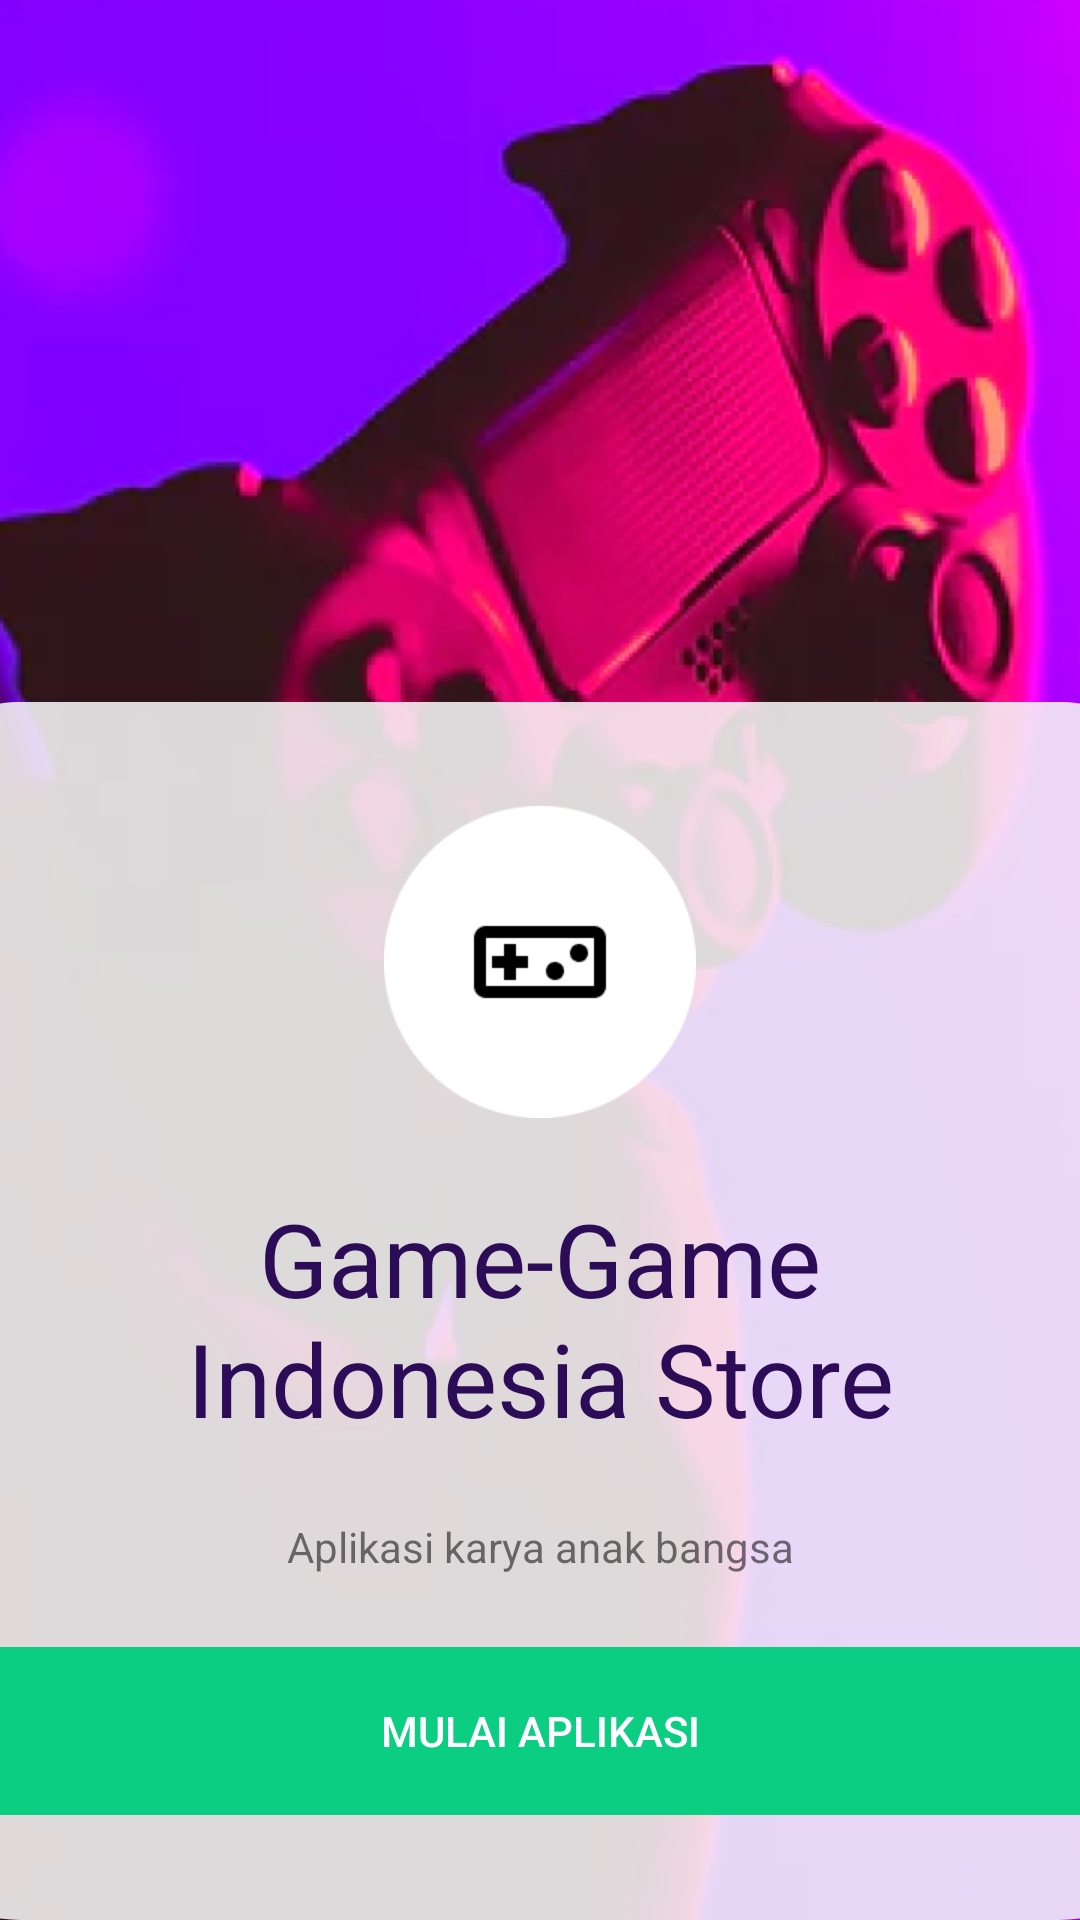

Screen size 1080px×1920px. Icon name, then its box in pixels as (x1, y1, x2, y2):
icongame: (384, 806, 696, 1118)
